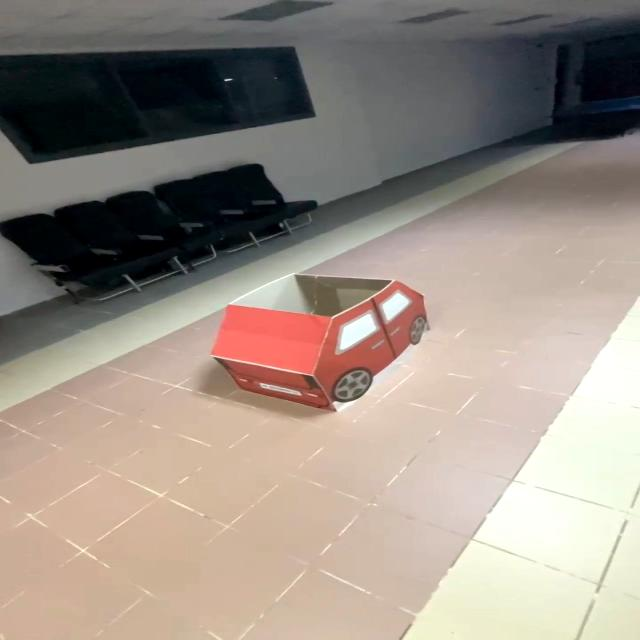red_car: (180, 258, 469, 423)
